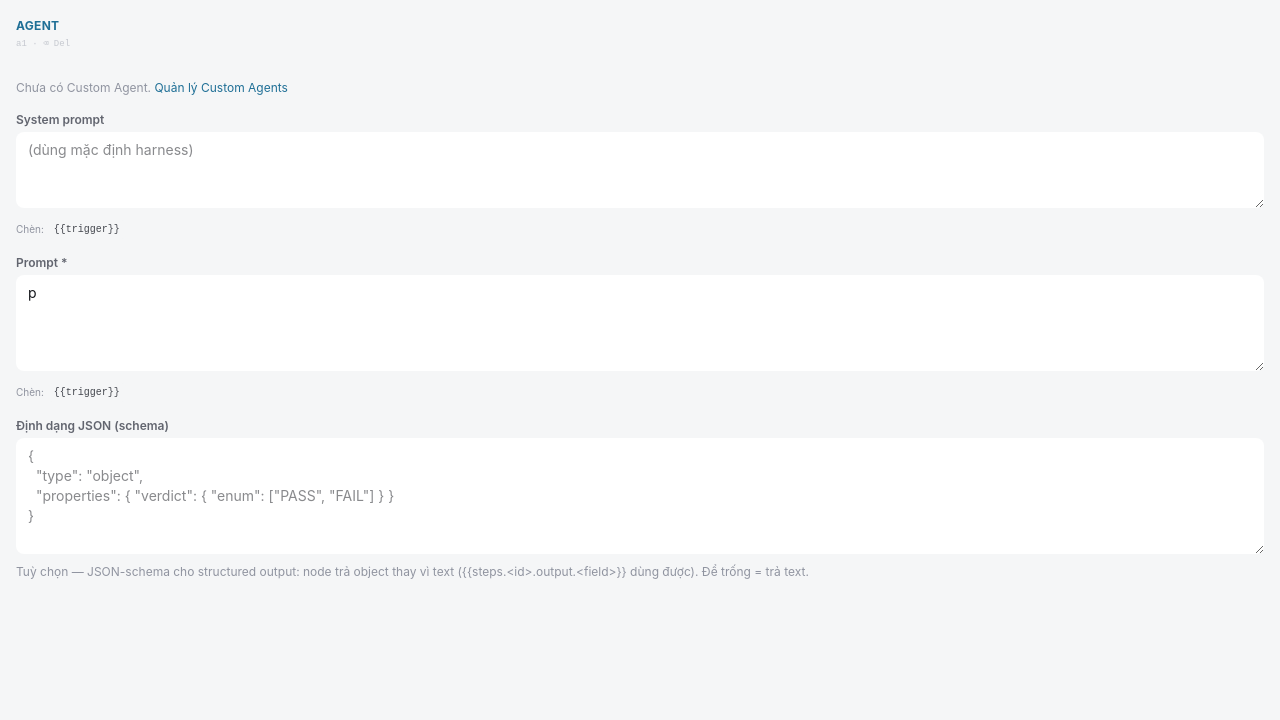
Test: AgentForm — format JSON schema (B1) › JSON array → 'phải là object' error, node NOT updated
Replace the text in the text box with placeholder "verdict" with "[1,2]": (640, 496) [16, 438, 1264, 554]
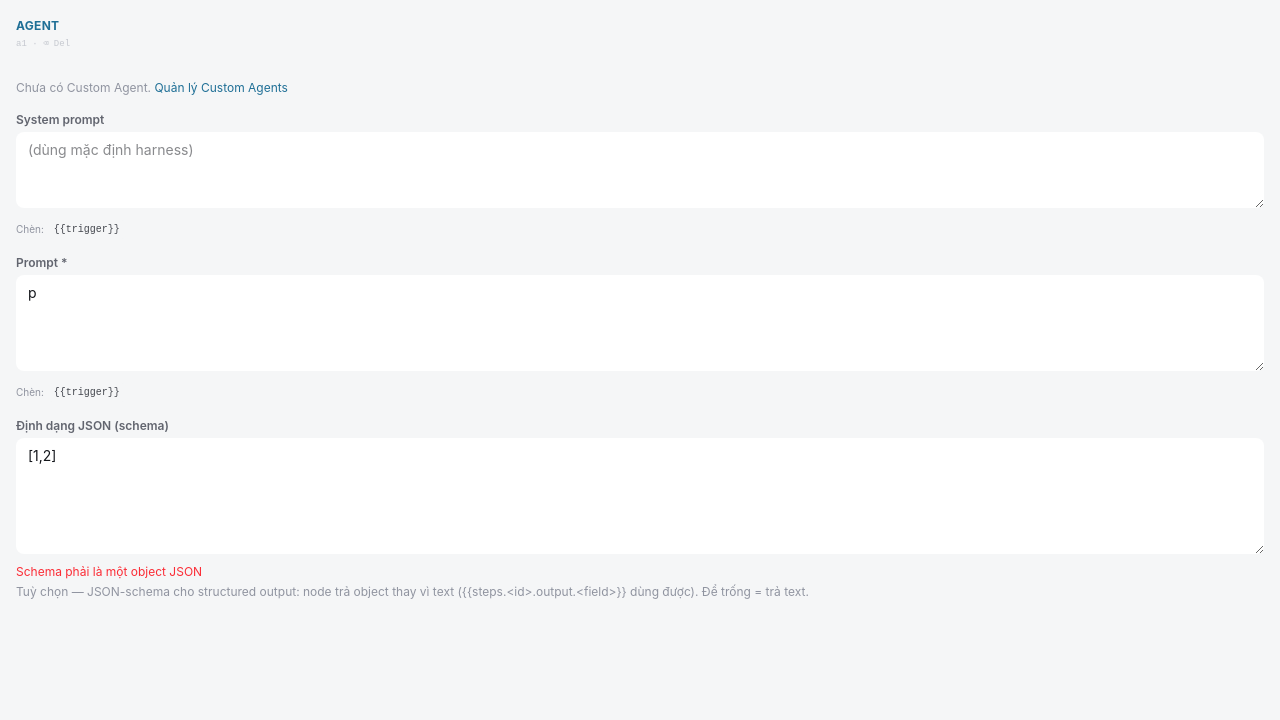
Check: the text "Schema phải là một object JSON" is shown, box [16, 564, 202, 578]
